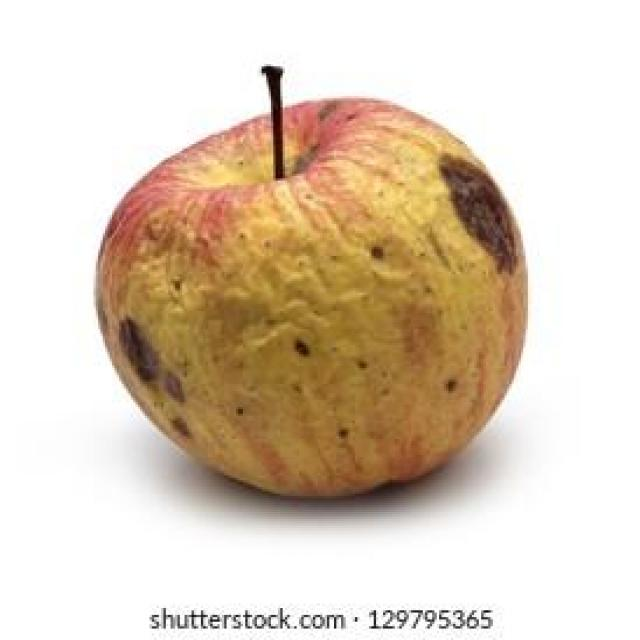Rotten: (92, 90, 536, 508)
